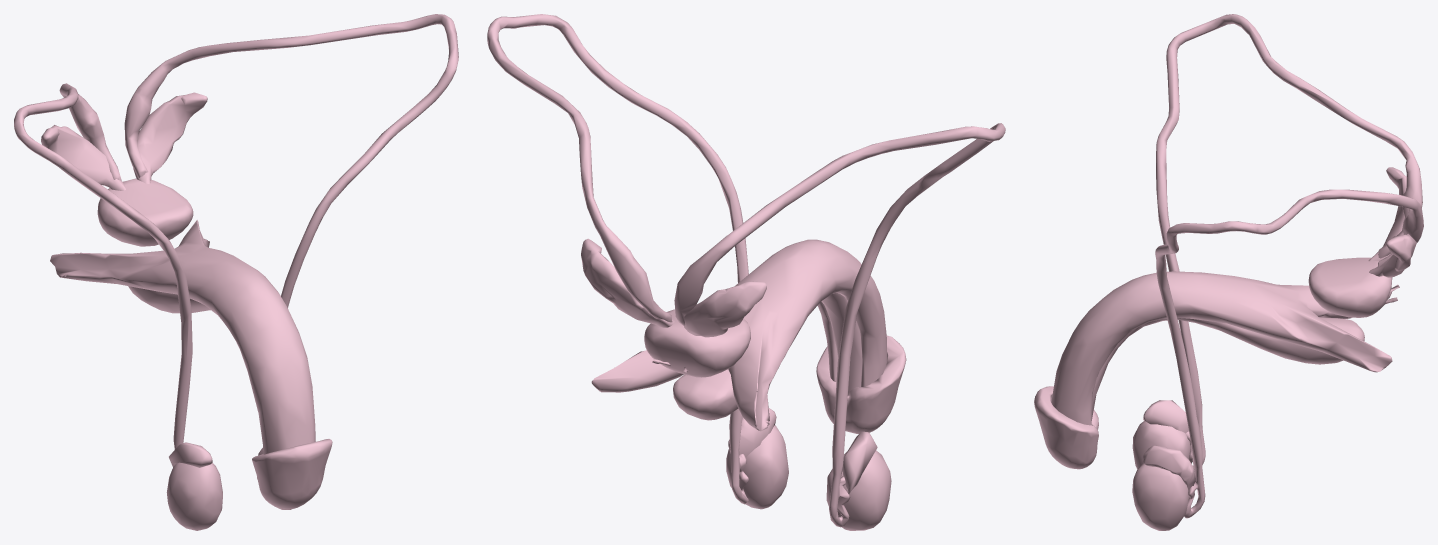
Rendered from riproduttivo.glb.
The picture shows the model from 3 angles, left to right: view 1: azimuth 30°, elevation 25°; view 2: azimuth 150°, elevation 25°; view 3: azimuth 270°, elevation 25°; orthographic projection. The views are drawn at different scales.
Parts seen in each view (by area): view 1: FJ3132, FJ3135, FJ3140, FJ3139, FJ3134, FJ3142, FJ3137, FJ3143, FJ3133, FJ3141; view 2: FJ3132, FJ3140, FJ3135, FJ3139, FJ3133, FJ3134, FJ3138, FJ3143, FJ3142, FJ3137, FJ3141, FJ3136; view 3: FJ3132, FJ3140, FJ3135, FJ3139, FJ3134, FJ3138, FJ3133, FJ3142, FJ3136, FJ3137, FJ3141, FJ3143.
Part boxes in pixels (x1,y1,x2,y2): FJ3132: (50,220,315,454); FJ3135: (124,14,458,307); FJ3140: (14,83,192,449); FJ3139: (97,178,193,246); FJ3134: (252,439,332,509); FJ3142: (166,462,222,530); FJ3137: (133,92,207,183); FJ3143: (41,125,125,190); FJ3133: (128,286,210,313); FJ3141: (169,442,212,467); FJ3132: (591,239,886,431); FJ3140: (674,123,1005,527); FJ3135: (487,14,748,504); FJ3139: (644,309,750,377); FJ3133: (673,293,862,420); FJ3134: (816,335,906,433); FJ3138: (726,425,788,509); FJ3143: (684,281,766,337); FJ3142: (826,450,891,530); FJ3137: (581,238,674,327); FJ3141: (842,431,877,493); FJ3136: (728,408,776,457); FJ3132: (1051,271,1392,425); FJ3140: (1156,14,1422,466); FJ3135: (1155,189,1423,518); FJ3139: (1308,257,1392,317); FJ3134: (1034,386,1098,469); FJ3138: (1132,463,1188,530); FJ3133: (1091,317,1364,420); FJ3142: (1132,421,1190,469); FJ3136: (1142,445,1195,499); FJ3137: (1369,233,1416,277); FJ3141: (1143,400,1188,433); FJ3143: (1368,167,1406,261).
Bounding box in the file's own units: 0.1867 × 0.1711 × 0.1483.
